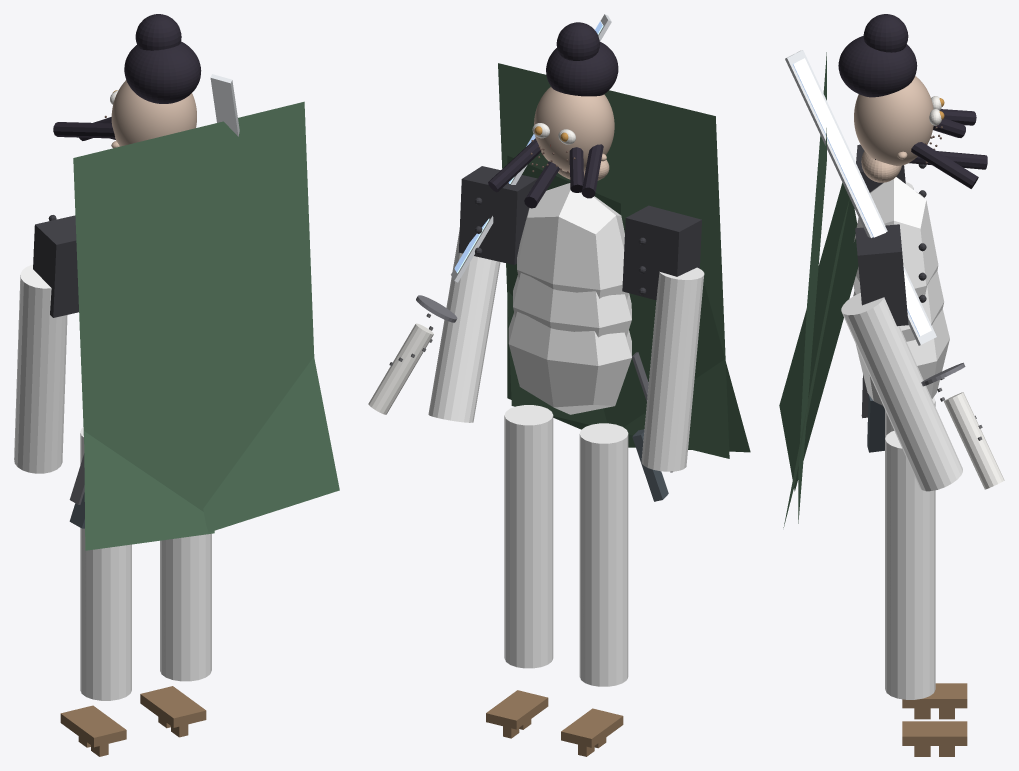
The model's file is ronin_character_v0.2.glb.
3 views of the same model, side by side, from view 1: azimuth 30°, elevation 25°; view 2: azimuth 150°, elevation 25°; view 3: azimuth 270°, elevation 25° (orthographic). The views are drawn at different scales.
Visible parts, largest first — view 1: Cloth_Haori_0, Cloth_Haori_2, Cloth_Sleeve_L, Cloth_Haori_1, Cloth_Leg_L, Cloth_Leg_R, Hair_Bun, Metal_Pauldron_L, Skin_Head, Cloth_GetaSole_L, Cloth_GetaSole_R, Hair_BunTop (+2 smaller); view 2: Cloth_Haori_0, Cloth_Leg_R, Cloth_Leg_L, Cloth_KimonoLayer_0, Cloth_Sleeve_L, Cloth_KimonoLayer_2, Cloth_Sleeve_R, Cloth_Haori_1, Metal_Pauldron_L, Metal_Pauldron_R, Cloth_KimonoLayer_1, Skin_Head (+11 smaller); view 3: Cloth_Leg_R, Cloth_Sleeve_R, Cloth_Haori_1, Skin_Head, Cloth_KimonoLayer_0, Metal_Pauldron_R, Metal_HamonLine, Hair_Bun, Cloth_Haori_0, Cloth_Tsuka, Metal_Blade, Cloth_KimonoLayer_2 (+12 smaller).
Part boxes in pixels (box(x1,y1,x2,y2)): Cloth_Haori_0: box(73, 101, 314, 511); Cloth_Haori_2: box(203, 357, 339, 532); Cloth_Sleeve_L: box(14, 264, 67, 473); Cloth_Haori_1: box(84, 431, 214, 550); Cloth_Leg_L: box(80, 427, 131, 700); Cloth_Leg_R: box(160, 533, 211, 681); Hair_Bun: box(124, 41, 201, 103); Metal_Pauldron_L: box(33, 215, 78, 317); Skin_Head: box(111, 80, 196, 146); Cloth_GetaSole_L: box(60, 705, 126, 747); Cloth_GetaSole_R: box(140, 686, 206, 727); Hair_BunTop: box(135, 14, 181, 50); Cloth_Haori_0: box(498, 63, 729, 458); Cloth_Leg_R: box(504, 405, 553, 668); Cloth_Leg_L: box(579, 423, 628, 686); Cloth_KimonoLayer_0: box(517, 183, 628, 299); Cloth_Sleeve_L: box(641, 267, 704, 471); Cloth_KimonoLayer_2: box(508, 311, 631, 414); Cloth_Sleeve_R: box(428, 230, 500, 422); Cloth_Haori_1: box(603, 220, 750, 452); Metal_Pauldron_L: box(622, 205, 701, 300); Metal_Pauldron_R: box(458, 166, 537, 264); Cloth_KimonoLayer_1: box(513, 273, 631, 337); Skin_Head: box(534, 87, 614, 172); Cloth_Leg_R: box(885, 431, 935, 699); Cloth_Sleeve_R: box(841, 293, 962, 491); Cloth_Haori_1: box(779, 182, 858, 491); Skin_Head: box(854, 76, 933, 165); Cloth_KimonoLayer_0: box(853, 177, 938, 297); Metal_Pauldron_R: box(855, 224, 908, 326); Metal_HamonLine: box(793, 58, 931, 336); Hair_Bun: box(838, 36, 917, 97); Cloth_Haori_0: box(798, 52, 826, 523); Cloth_Tsuka: box(944, 392, 1004, 489); Metal_Blade: box(785, 50, 936, 345); Cloth_KimonoLayer_2: box(856, 309, 949, 405).
Bounding box in the file's own units: 0.8253 × 1.95 × 0.5539.
